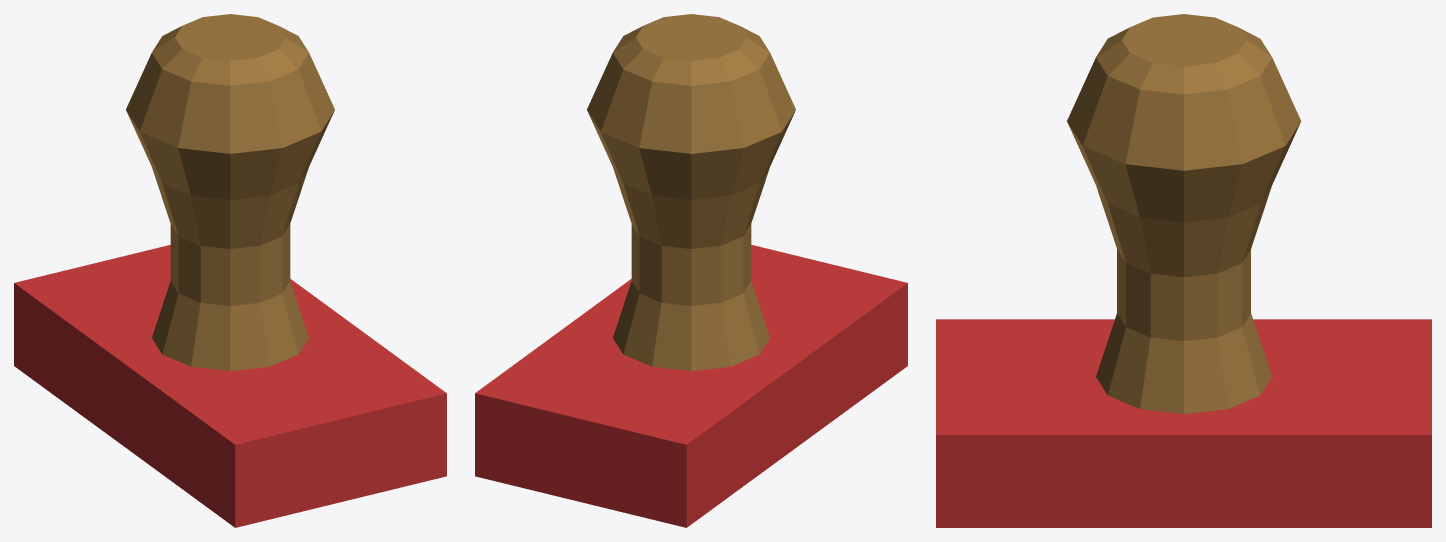
Rendered from RedStampWood.fbx.
The picture shows the model from 3 angles, left to right: view 1: azimuth 30°, elevation 25°; view 2: azimuth 150°, elevation 25°; view 3: azimuth 270°, elevation 25°; orthographic projection. The views are drawn at different scales.
Parts seen in each view (by area): view 1: stamp2; view 2: stamp2; view 3: stamp2.
Part boxes in pixels (x1=…): stamp2: x1=14, y1=14, x2=446, y2=527; stamp2: x1=475, y1=14, x2=907, y2=527; stamp2: x1=936, y1=14, x2=1431, y2=527.
Size of the model in its own units: 155 by 269 by 281.
